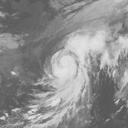cyclone: (43, 43, 89, 92)
